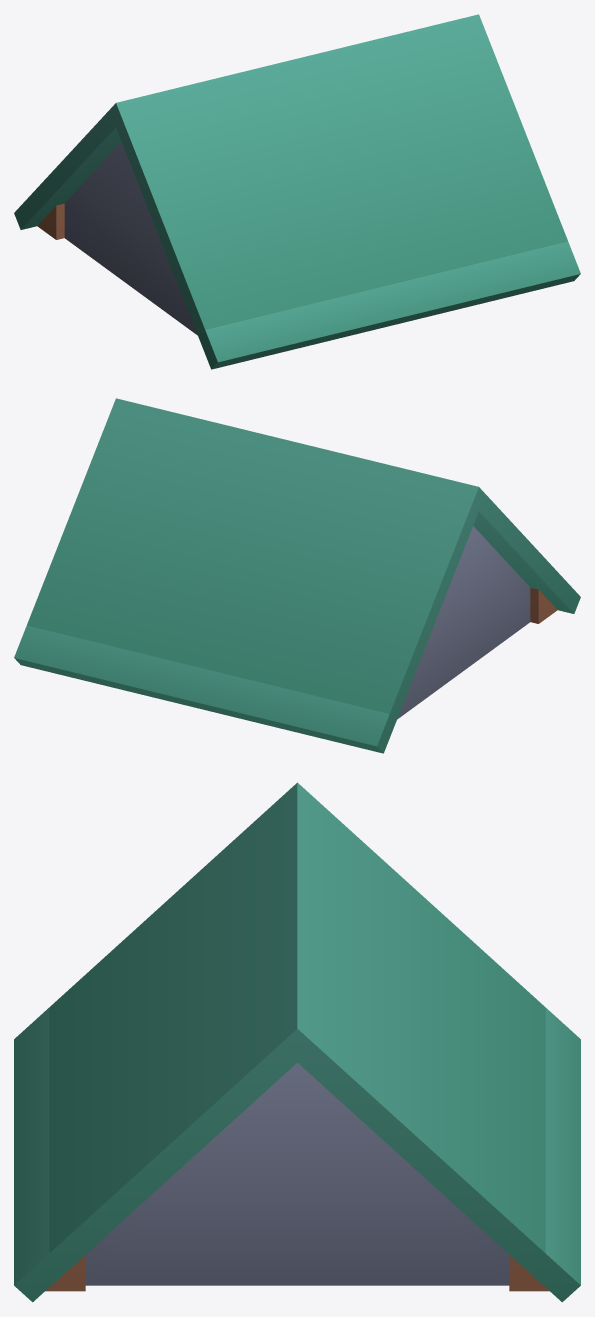
The model's file is roof-gable.glb.
3 views of the same model, one above another, from view 1: azimuth 30°, elevation 25°; view 2: azimuth 150°, elevation 25°; view 3: azimuth 270°, elevation 25° (orthographic). The views are drawn at different scales.
Visible parts, largest first — view 1: roof-gable; view 2: roof-gable; view 3: roof-gable.
Part boxes in pixels (x1,y1,x2,y2): roof-gable: (14, 14, 580, 369); roof-gable: (14, 398, 580, 753); roof-gable: (14, 782, 580, 1302).
Bounding box in the file's own units: 1.1 × 0.5707 × 1.07.
